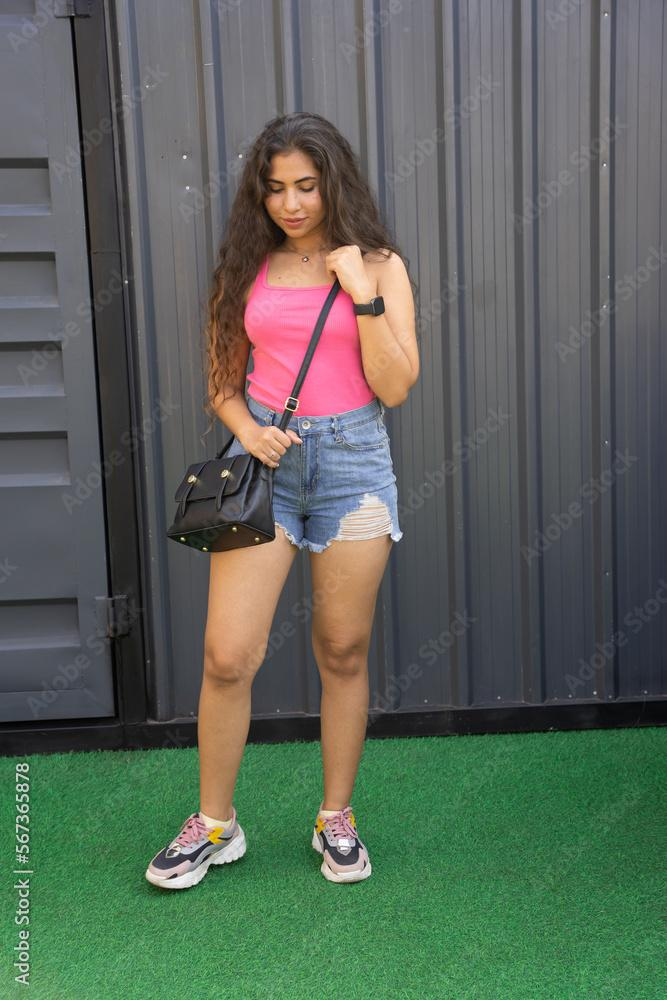Human: (114, 44, 457, 892)
